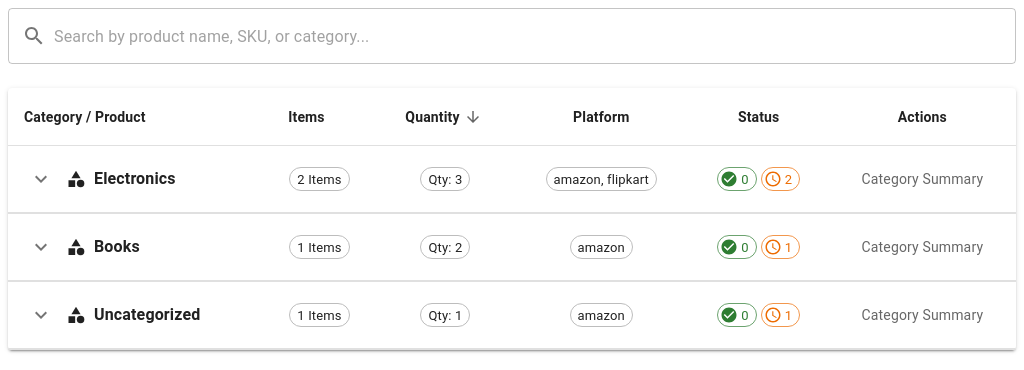
Scenario: CategoryGroupedTable › filters data when searching by category
This screenshot has width=1024, height=370.
Type "Electronics" into the field with placeholder "Search by product name, SKU, or category...".
click(535, 36); type("Electronics")  # box [54, 8, 1016, 64]
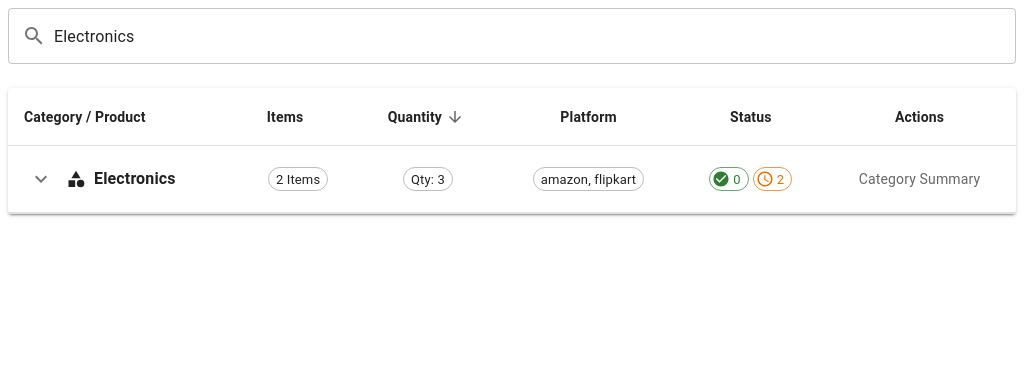
Expected: the heading "Electronics" is shown, [94, 165, 176, 193]
Now the button "Books" is gone
